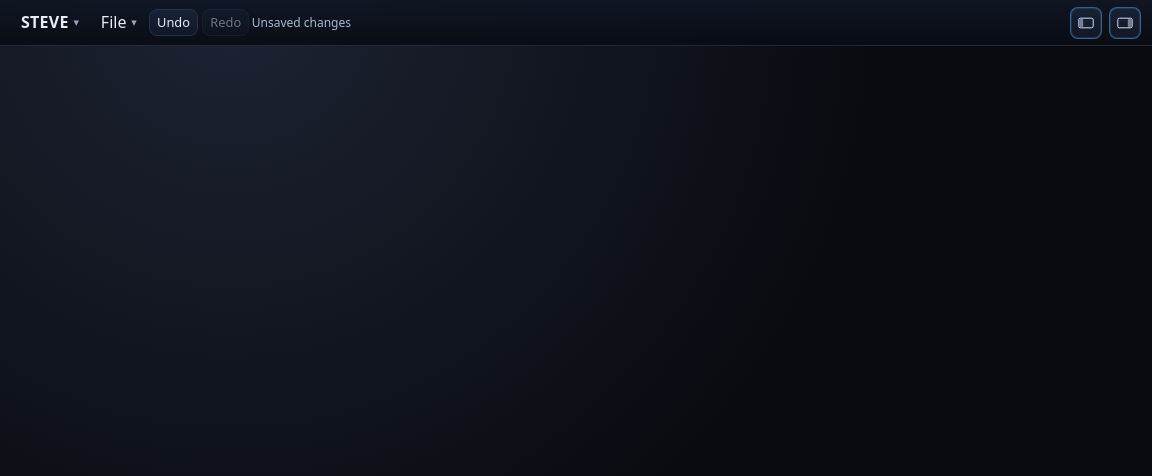
it: TopBar menus › shows save failures and warns on leaving an edited project
The width and height of the screenshot is (1152, 476).
Click the button "File ▾" at coordinates (119, 23), box [91,6,146,39]
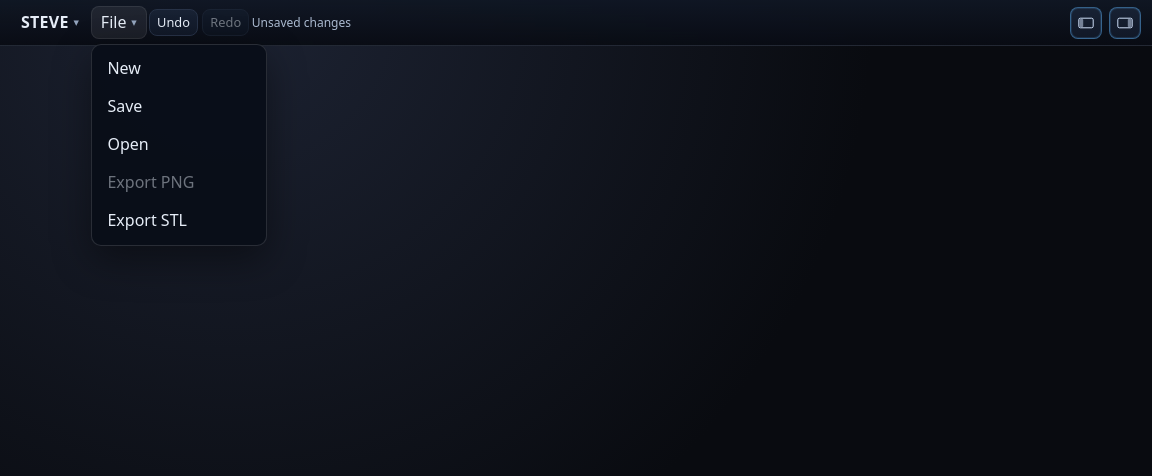
Click the menu item "Save" at coordinates (179, 107), box [97,88,261,126]
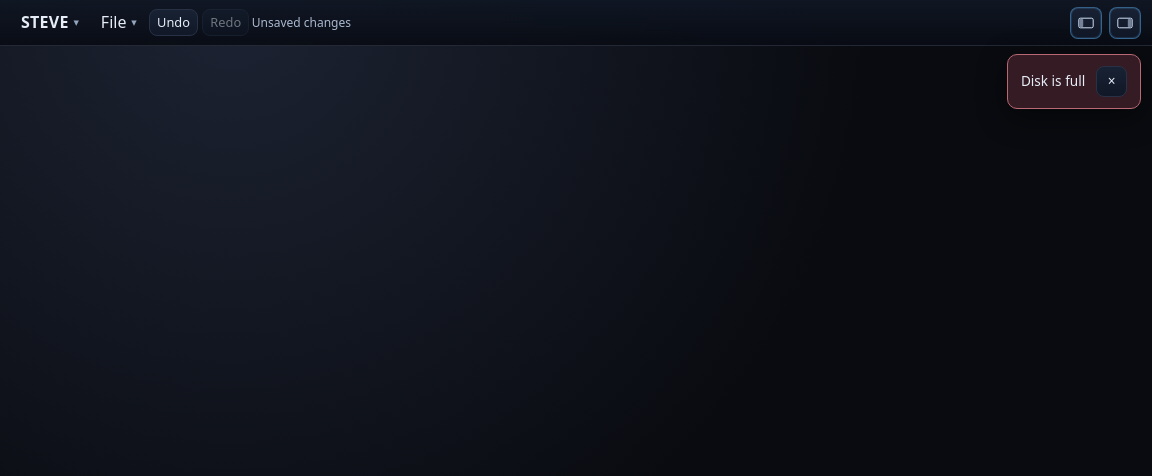
Expected: the text "Unsaved changes" is shown, [252,15,351,31]
Now the message "Disk is full ×" is shown, box [1007,54,1141,109]
